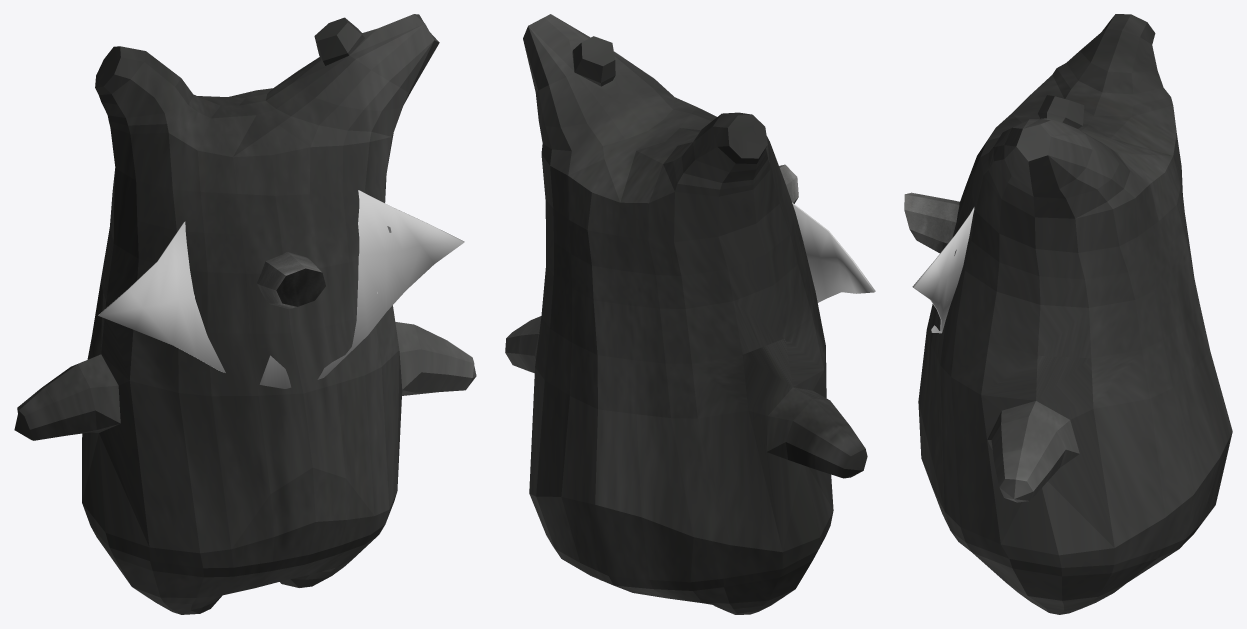
File: frame_0113.obj
3 renders of one model, left to right at view 1: azimuth 30°, elevation 25°; view 2: azimuth 150°, elevation 25°; view 3: azimuth 270°, elevation 25°, orthographic. The views are drawn at different scales.
Visible parts, largest first — view 1: korok, leaf, nose; view 2: korok, leaf; view 3: korok, leaf, nose.
Boxes of the visible parts, left/top/right/bottom form: korok: left=14, top=14, right=476, bottom=614; leaf: left=98, top=190, right=464, bottom=388; nose: left=257, top=252, right=325, bottom=309; korok: left=505, top=14, right=867, bottom=614; leaf: left=792, top=202, right=875, bottom=302; korok: left=918, top=14, right=1232, bottom=614; leaf: left=912, top=207, right=974, bottom=333; nose: left=904, top=192, right=959, bottom=253.
Size of the model in its own units: 1.71 by 2.18 by 1.21.
